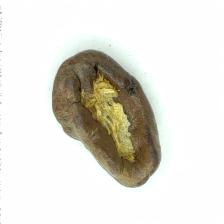NG: (75, 68, 150, 179)
